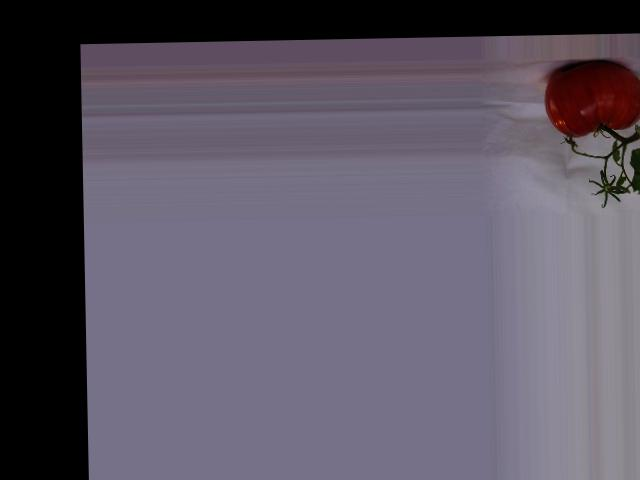tomato: (543, 59, 640, 137)
